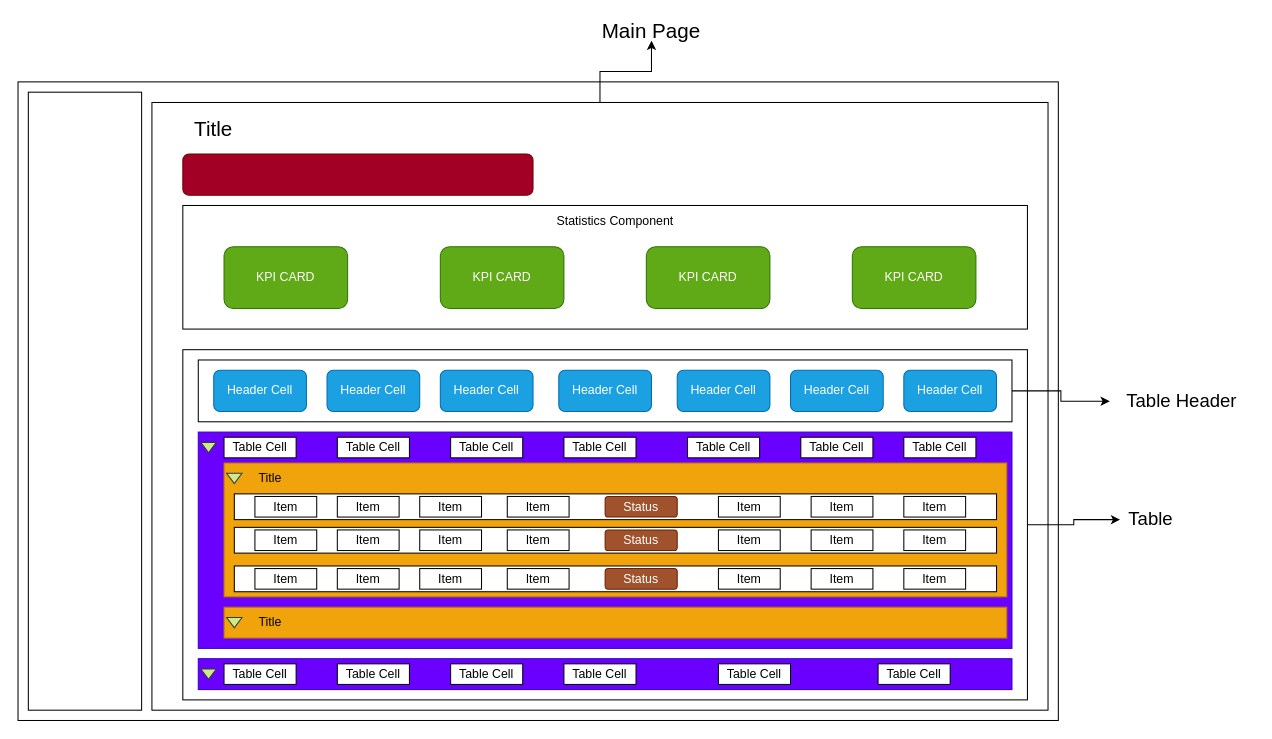
Image size: 1272x739. Some labels were removed from this diagram. The centre of each missing label's shape, as x and y in pixels:
Search field (reusable): point 357,174
Sidebar: point 84,400
